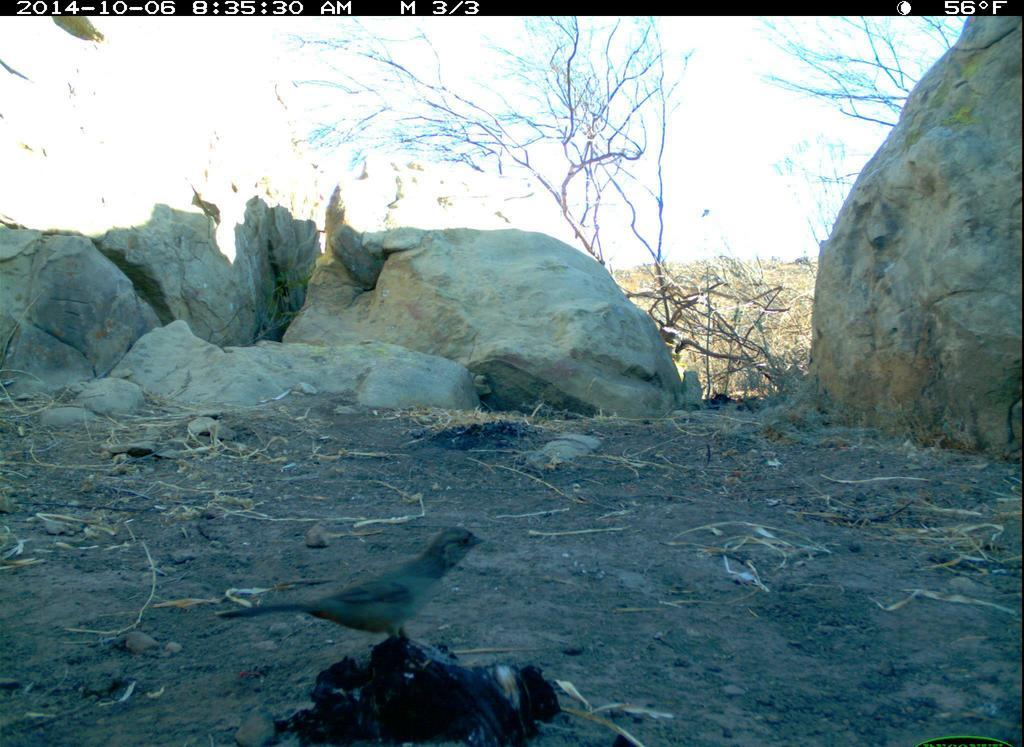bird: (217, 521, 495, 660)
